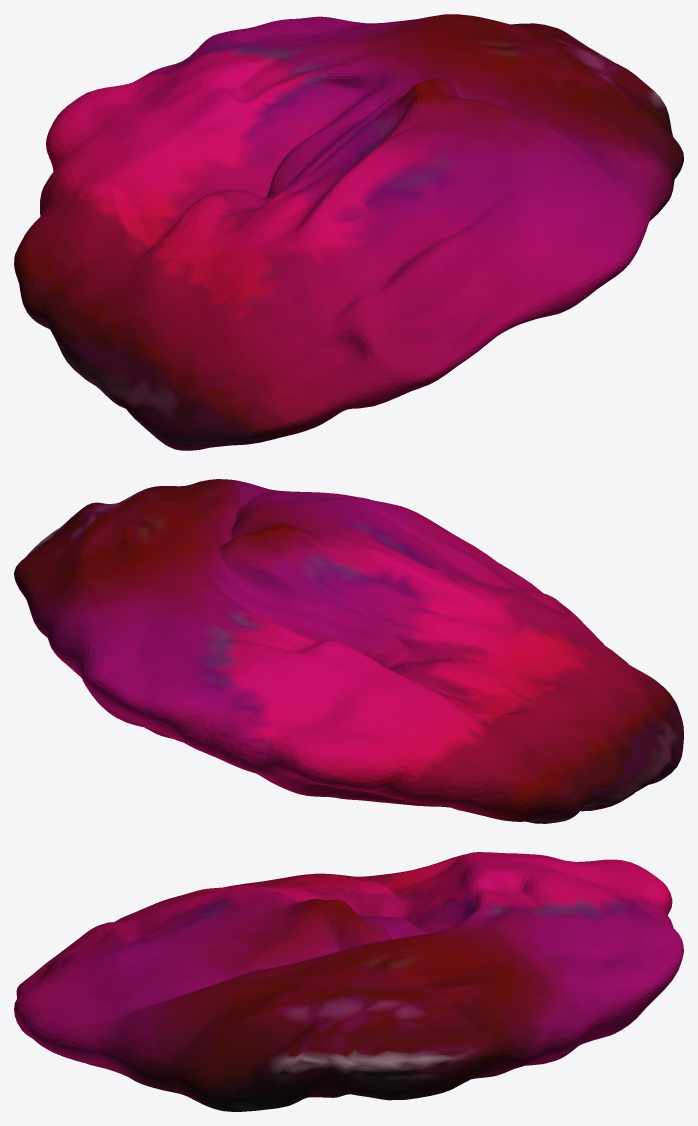
Rendered from liver.glb.
3 renders of one model, top to bottom at view 1: azimuth 30°, elevation 25°; view 2: azimuth 150°, elevation 25°; view 3: azimuth 270°, elevation 25°, orthographic. The views are drawn at different scales.
Parts seen in each view (by area): view 1: geometry_0; view 2: geometry_0; view 3: geometry_0.
Part boxes in pixels (bbox=[...]): geometry_0: bbox=[14, 14, 683, 450]; geometry_0: bbox=[14, 479, 683, 823]; geometry_0: bbox=[14, 852, 683, 1111].
Bounding box in the file's own units: 0.6875 × 0.2664 × 0.6375.
